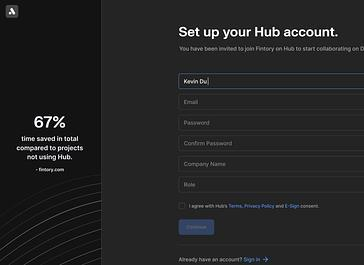button: (180, 220, 216, 235)
checkbox: (179, 203, 186, 211)
input: (180, 178, 364, 196), (179, 95, 364, 112), (180, 136, 364, 153), (180, 157, 364, 174), (180, 116, 364, 132), (180, 75, 364, 89)
label: (188, 202, 322, 213)
